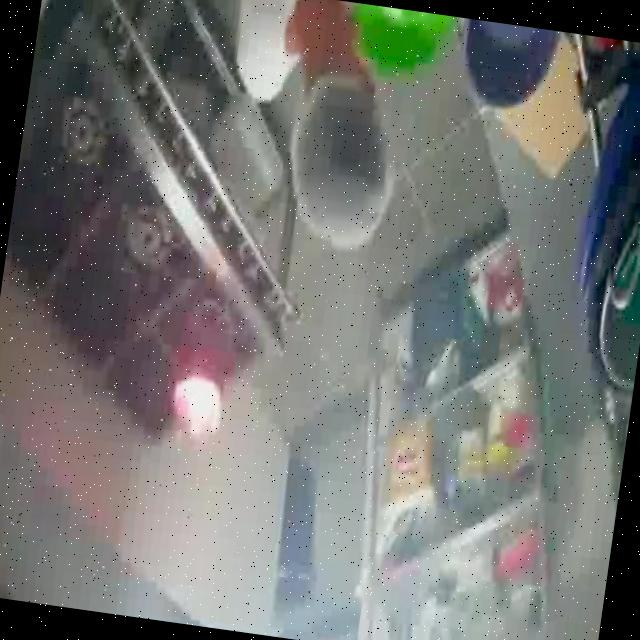fire: (132, 306, 258, 512)
